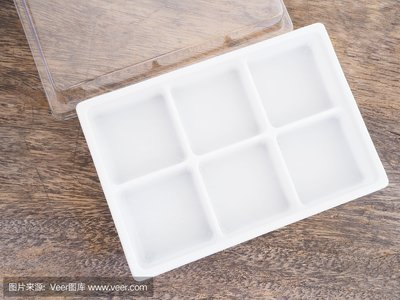5/可回收垃圾/泡沫: (75, 23, 389, 282), (13, 1, 294, 121)
